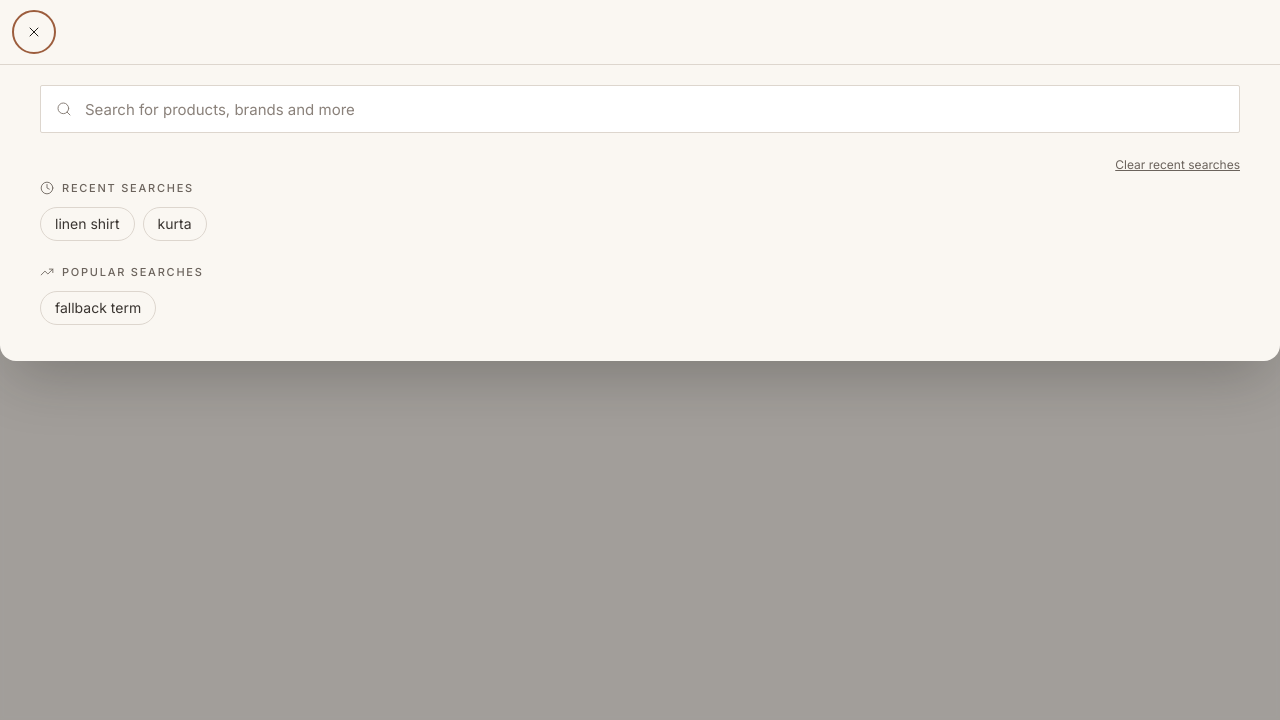
Test: SearchOverlay › shows recent searches with a clear button
Expected: the options read "linen shirt", "kurta", in this order, [40,207,135,241]; [143,207,207,241]
What coordinates should you click on to do the following:
click the button "Clear recent searches"
I would click on:
 (1178, 165)
Its box is [1115,157,1240,173].
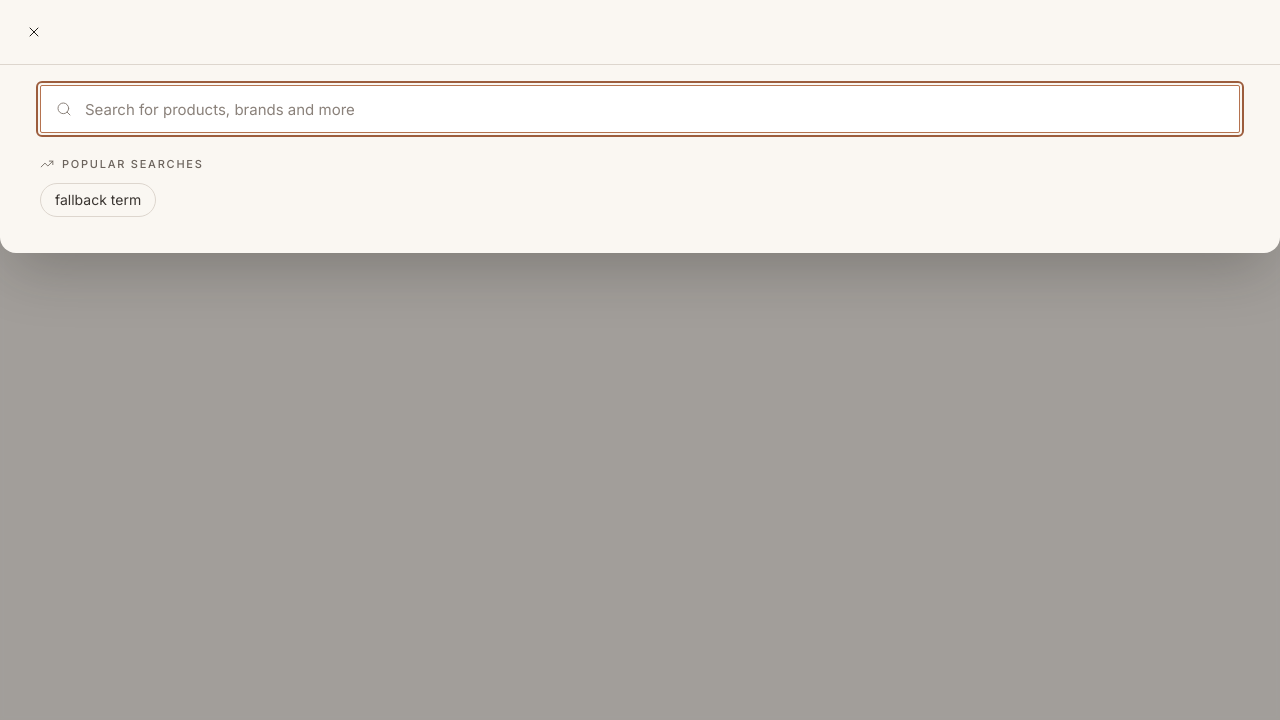
Expected: the button "recent searches" is gone
